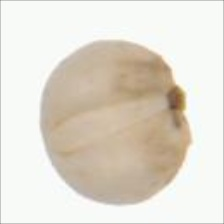L5: (47, 90, 169, 156), (155, 54, 194, 146)
L6: (38, 38, 194, 206)
